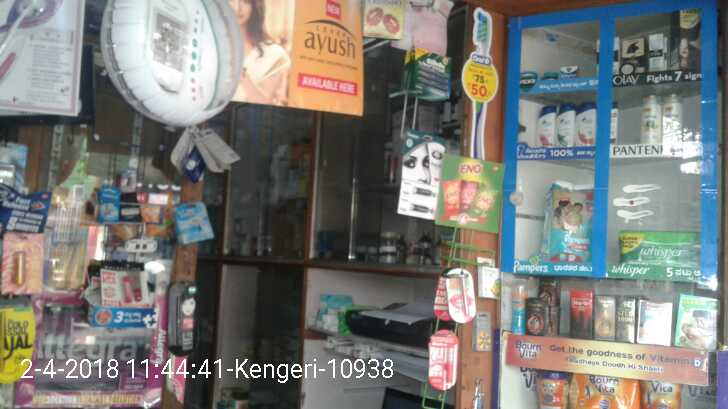vicks: (542, 61, 577, 79)
